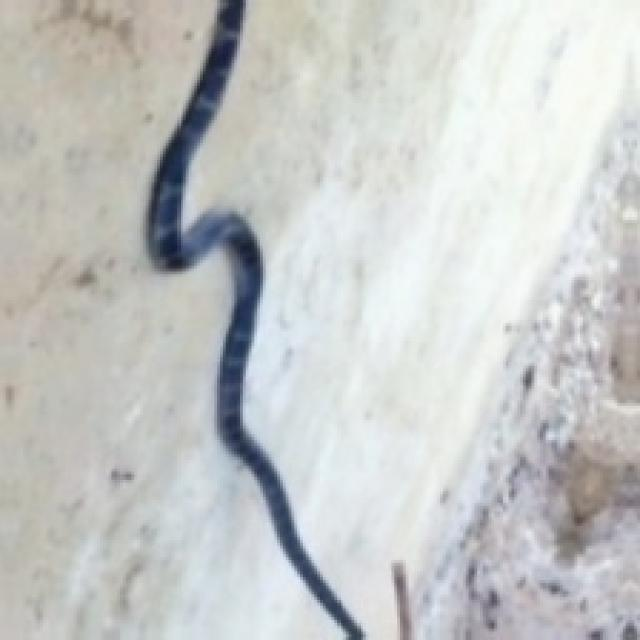king cobra: (149, 0, 363, 637)
